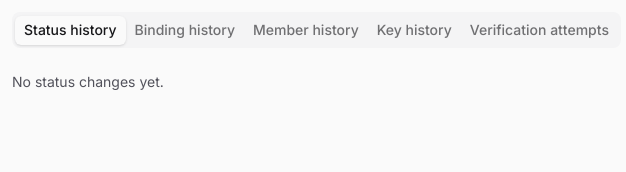
LicenceHistory (extra) › falls back to "unknown" when the member payload has no email
The width and height of the screenshot is (626, 172).
Step 1. Click the tab "Member history" → (306, 30), box [244, 16, 368, 44]
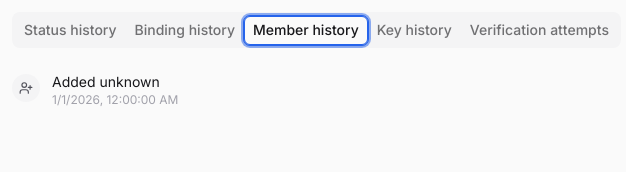
Result: the text "Added unknown" is shown at [52, 73, 160, 90]
